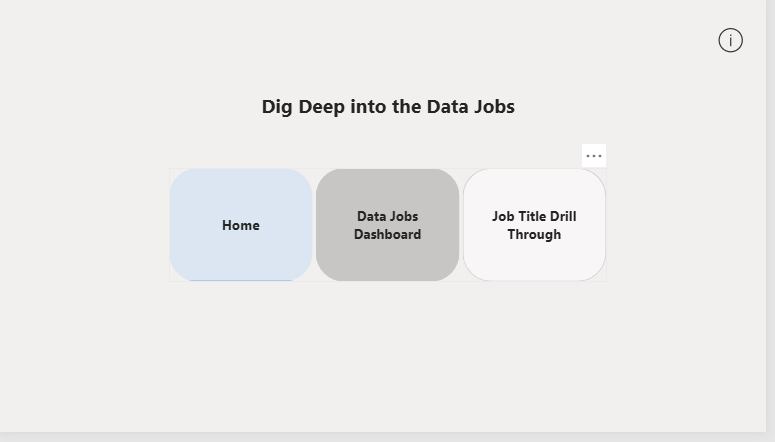

What the dashboard file says about the page in this screenshot:
{"tool":"powerbi","page":{"name":"Home","canvas":[1920,1080],"ordinal":0},"visuals":[{"type":"pageNavigator","box":[426.7,420,1095.6,284.4],"z":0},{"type":"textbox","box":[150,273,300,150],"z":1000},{"type":"textbox","box":[366.7,228.9,1215.6,120],"z":2000},{"type":"actionButton","box":[1788,53.1,89.3,87.2],"z":3000}]}

Visuals, with their boxes in screenshot pixels (x1, y1, x2, y2), scaled from the page's 1920x1080 canvas onto the 775x442 screenshot:
pageNavigator: {"x1": 172, "y1": 172, "x2": 614, "y2": 288}
textbox: {"x1": 61, "y1": 112, "x2": 182, "y2": 173}
textbox: {"x1": 148, "y1": 94, "x2": 639, "y2": 143}
actionButton: {"x1": 722, "y1": 22, "x2": 758, "y2": 57}
